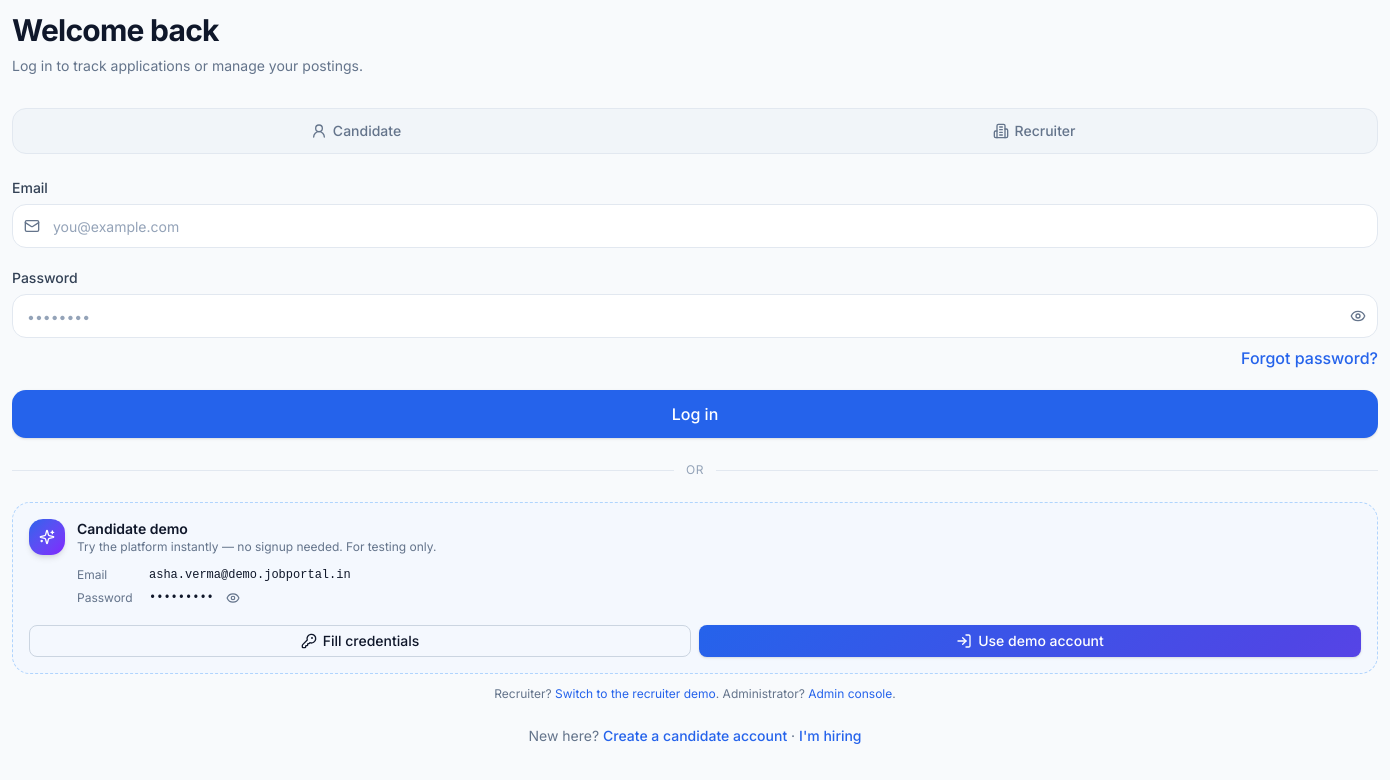
LoginPage › shows client-side validation errors without hitting the API
Click the button "Log in": (695, 414) [12,390,1378,438]
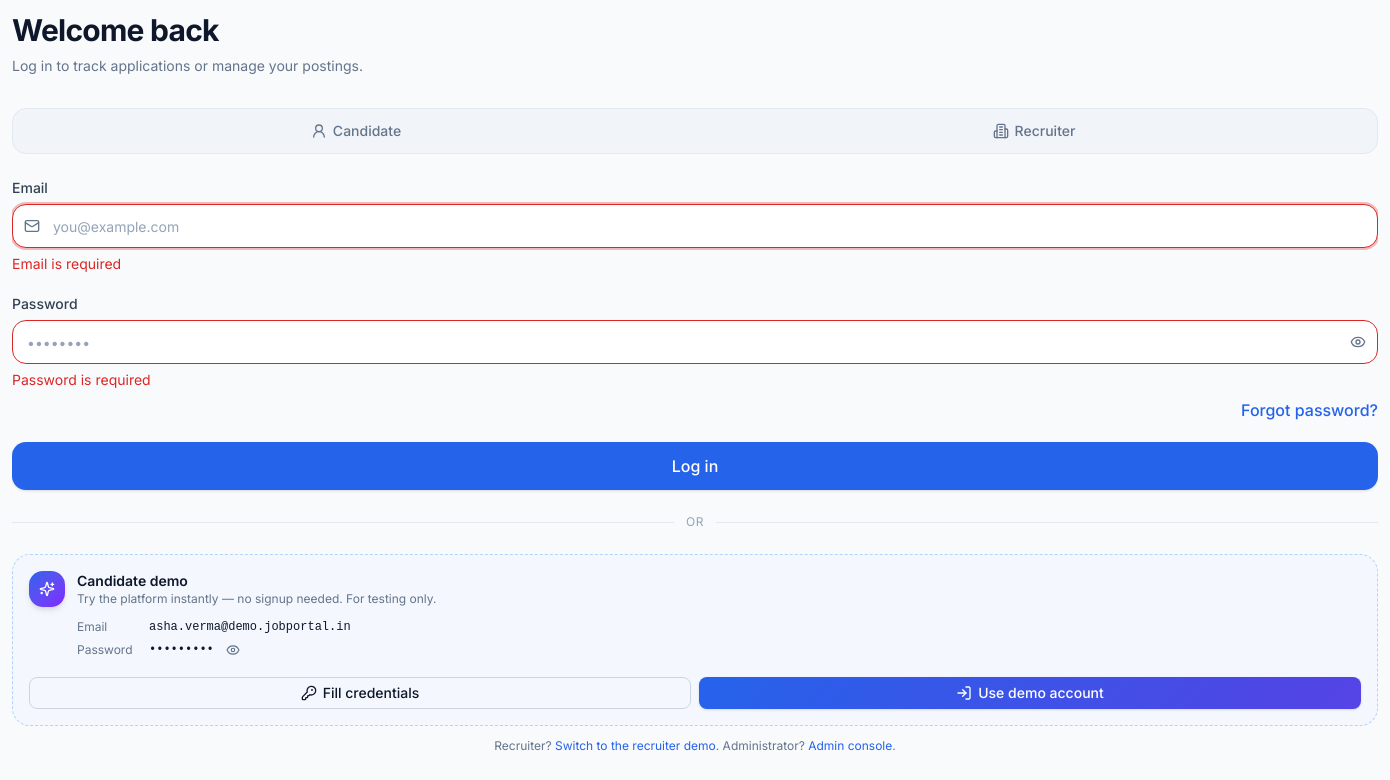
Now the text "Email is required" is shown, box [12,255,121,272]
Now the text "Password is required" is shown, box [12,371,151,388]
